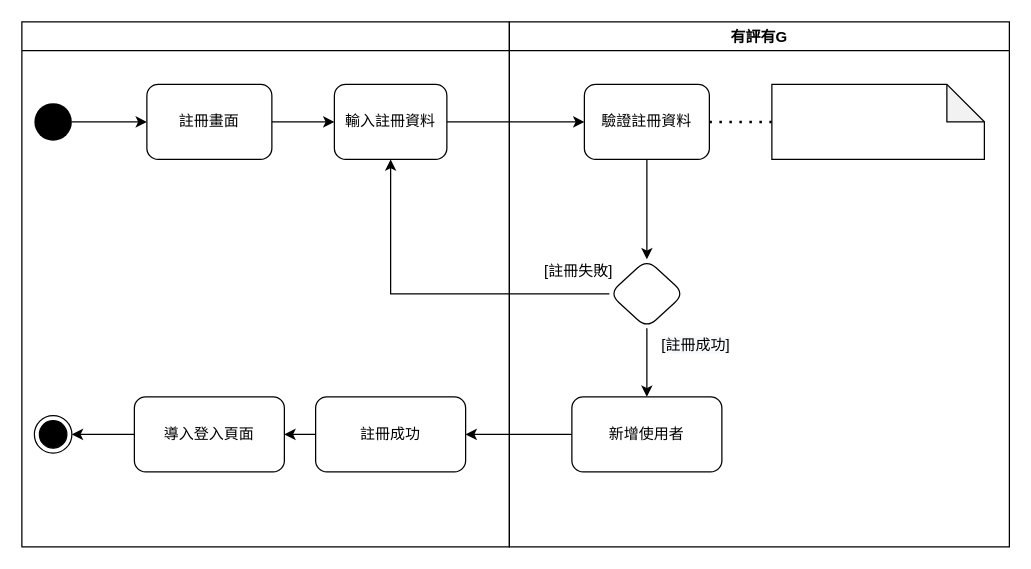
Image size: 1031x569. Some labels were removed from this diagram. The centre of each missing label's shape, as x and y in pixels:
"1.是否相同帳號 2.是否有填塞基本資料 3.判斷資料是否合理" belongs at point (877, 121).
"訪客" belongs at point (265, 284).
